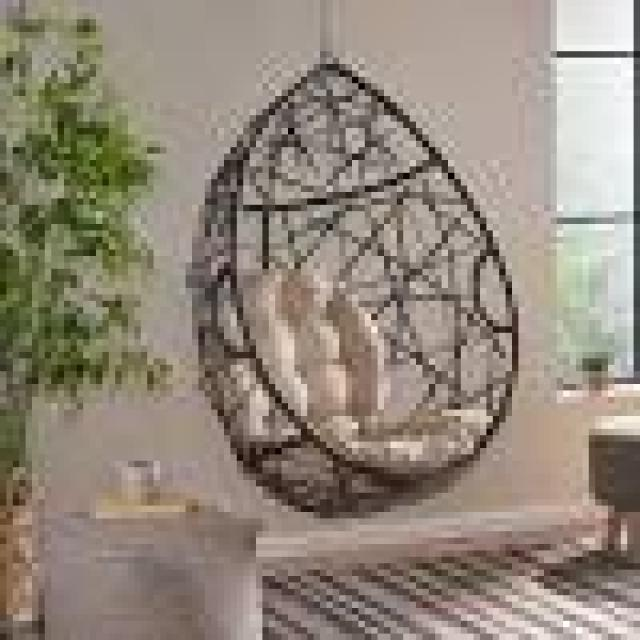chair: (162, 44, 561, 594)
